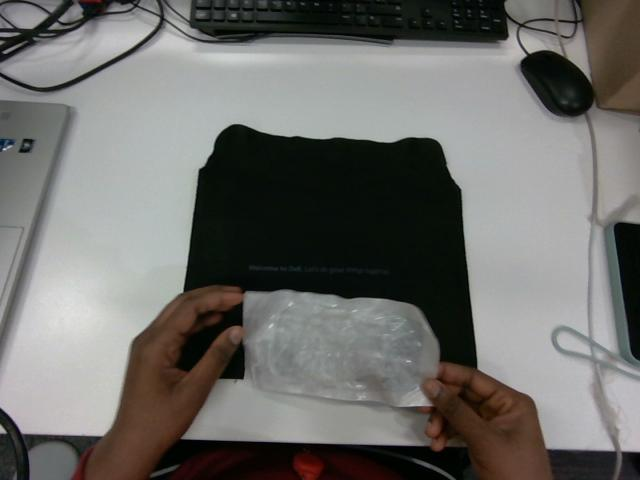gallipot: (243, 290, 439, 406)
